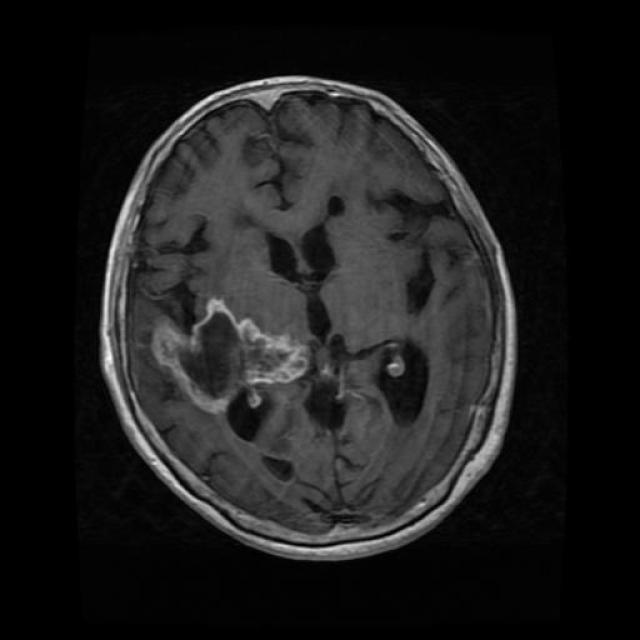brain_tumor: (151, 299, 310, 413)
